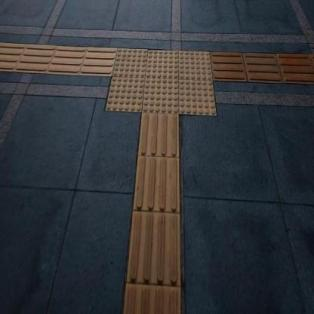Podoctatil: (79, 27, 227, 142), (124, 115, 183, 313), (0, 40, 112, 77), (214, 52, 313, 82)
